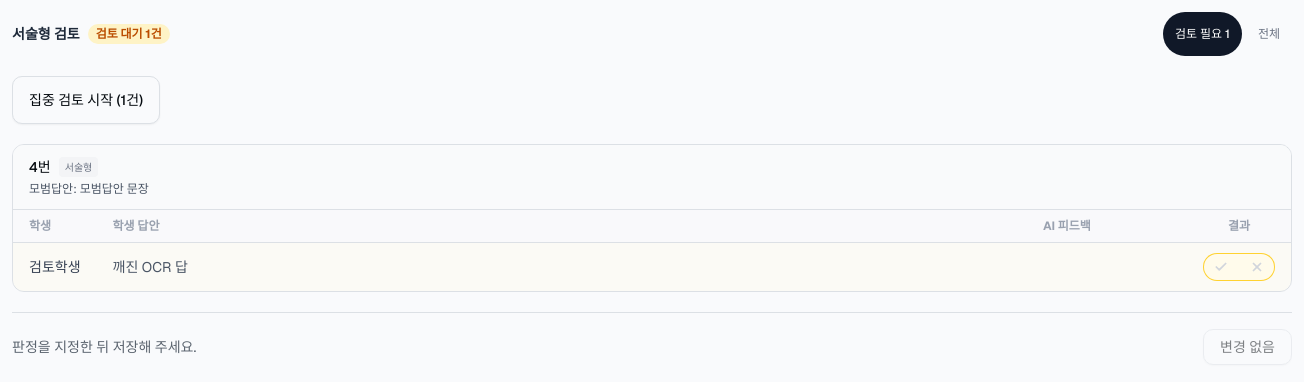
Test: SubjectiveReviewPanel — 판정 버튼 분리 › 같은 버튼을 다시 누르면 판정이 해제된다
Click the button named "오답".
click(1257, 267)  # box [1239,253,1275,281]
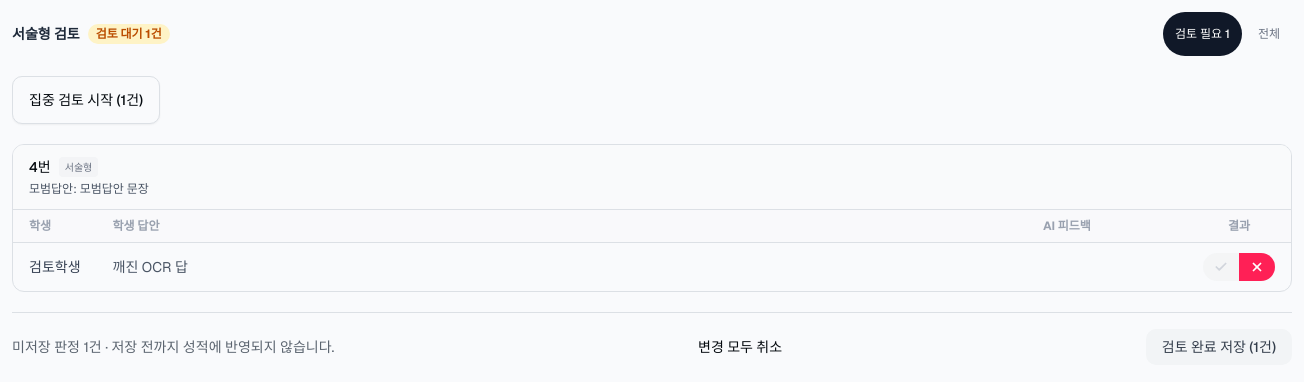
expect the button "검토 완료 저장 (1건)" is shown: met, box [1146,329,1292,365]
Click the button named "오답".
click(1257, 267)  # box [1239,253,1275,281]
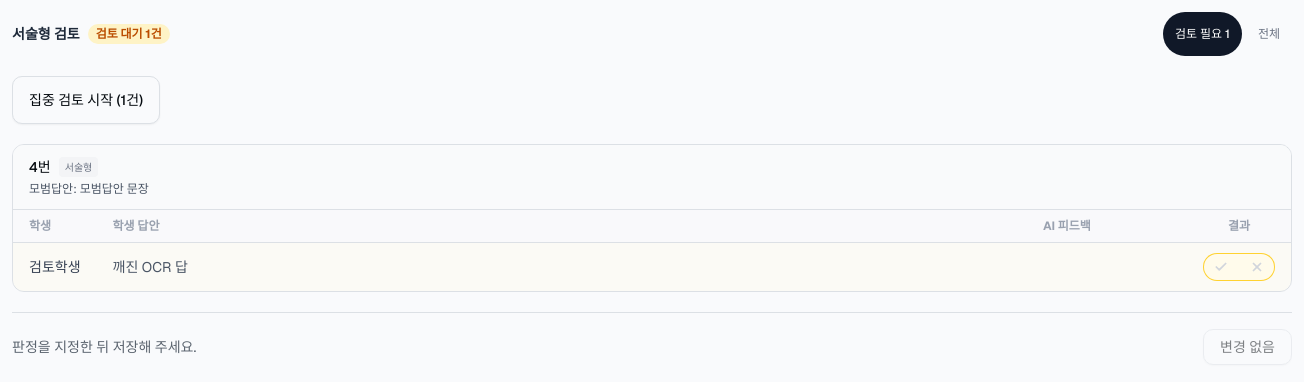
expect the button "변경 없음" is shown: met, box [1203,329,1292,365]
